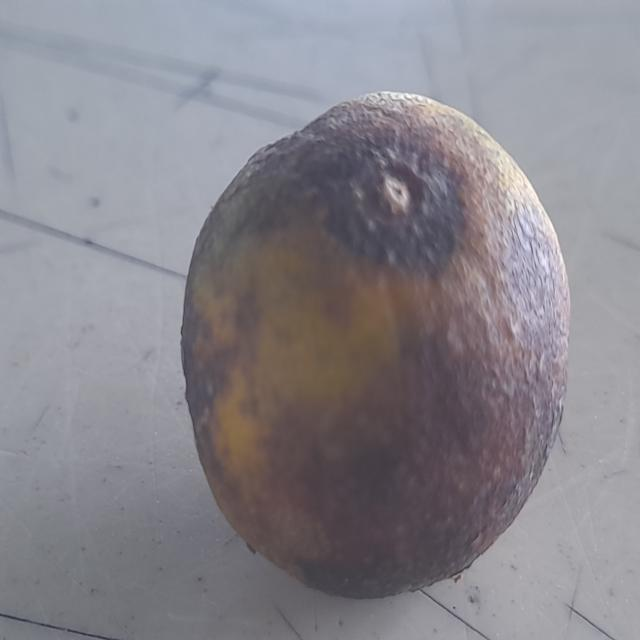black spot: (175, 90, 577, 589)
